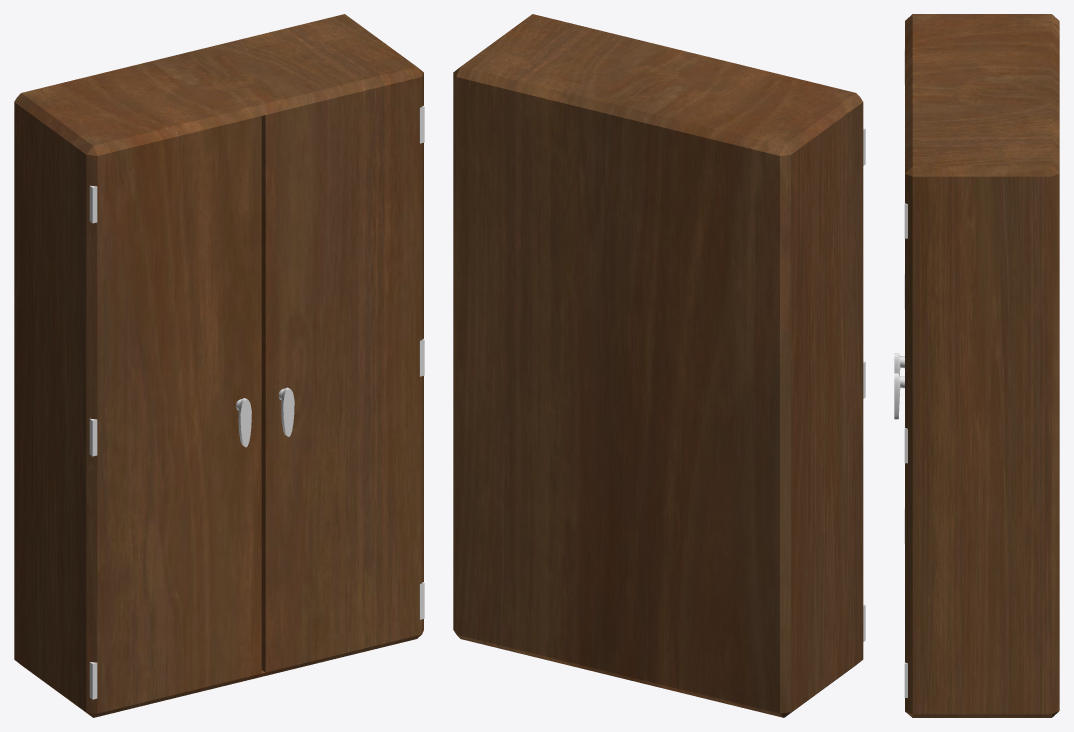
File: cabinet_big.fbx
3 views of the same model, side by side, from view 1: azimuth 30°, elevation 25°; view 2: azimuth 150°, elevation 25°; view 3: azimuth 270°, elevation 25° (orthographic). The views are drawn at different scales.
Visible parts, largest first — view 1: pCube13; view 2: pCube13; view 3: pCube13, pCylinder7.
Boxes of the visible parts, x1,y1,x2,y2 form: pCube13: [14, 14, 423, 717]; pCube13: [453, 14, 863, 717]; pCube13: [905, 14, 1059, 717]; pCylinder7: [894, 373, 904, 419].
Bounding box in the file's own units: 111 × 179 × 48.7.
3 materials, 1 textured.
